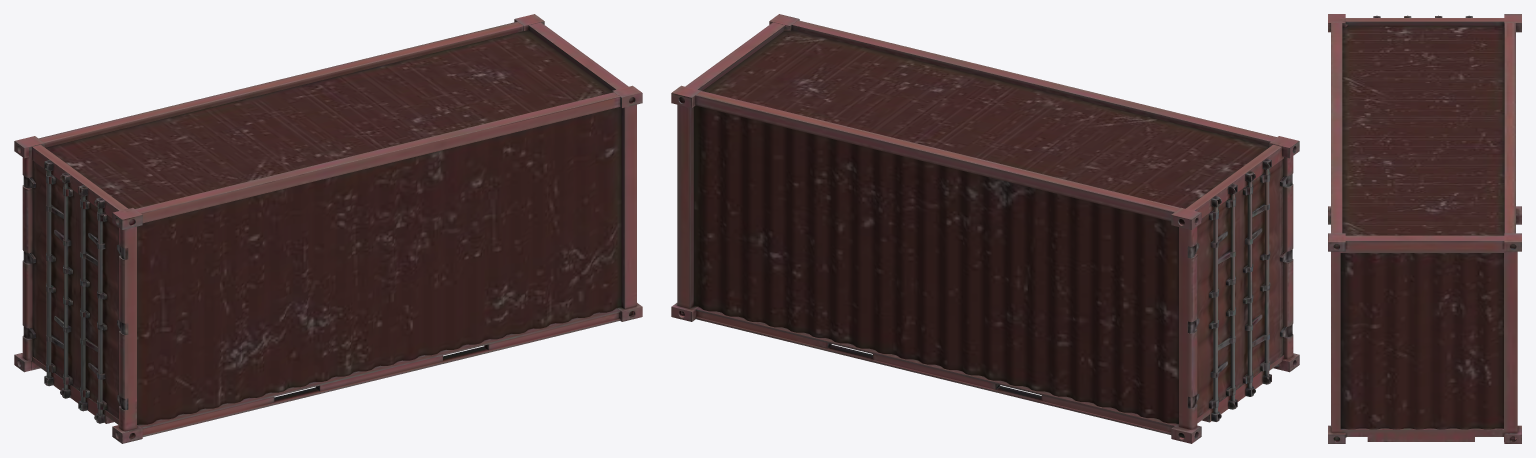
Rendered from shipping-container--2.gltf.
3 renders of one model, left to right at view 1: azimuth 30°, elevation 25°; view 2: azimuth 150°, elevation 25°; view 3: azimuth 270°, elevation 25°, orthographic. The views are drawn at different scales.
Parts seen in each view (by area): view 1: Cylinder.025; view 2: Cylinder.025; view 3: Cylinder.025.
Boxes of the visible parts, x1=… form: Cylinder.025: x1=14, y1=14, x2=642, y2=443; Cylinder.025: x1=671, y1=14, x2=1299, y2=443; Cylinder.025: x1=1328, y1=14, x2=1521, y2=443.
Bounding box in the file's own units: 6.32 × 2.6 × 2.27.
1 material, 1 textured.
